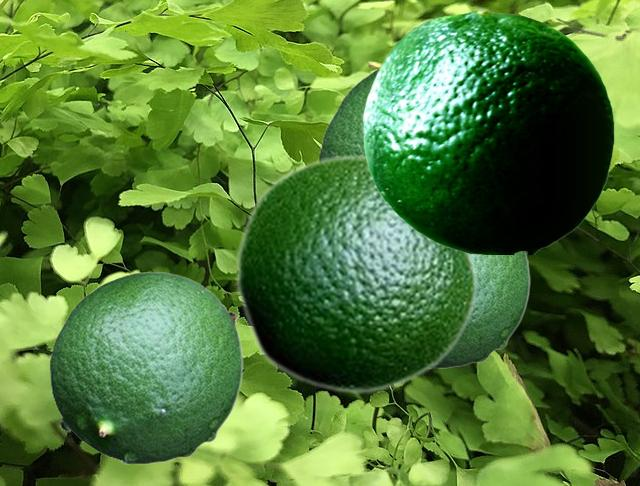calamansi: (363, 8, 613, 253), (234, 153, 477, 394), (49, 271, 242, 463), (436, 253, 529, 367), (318, 64, 380, 156)
